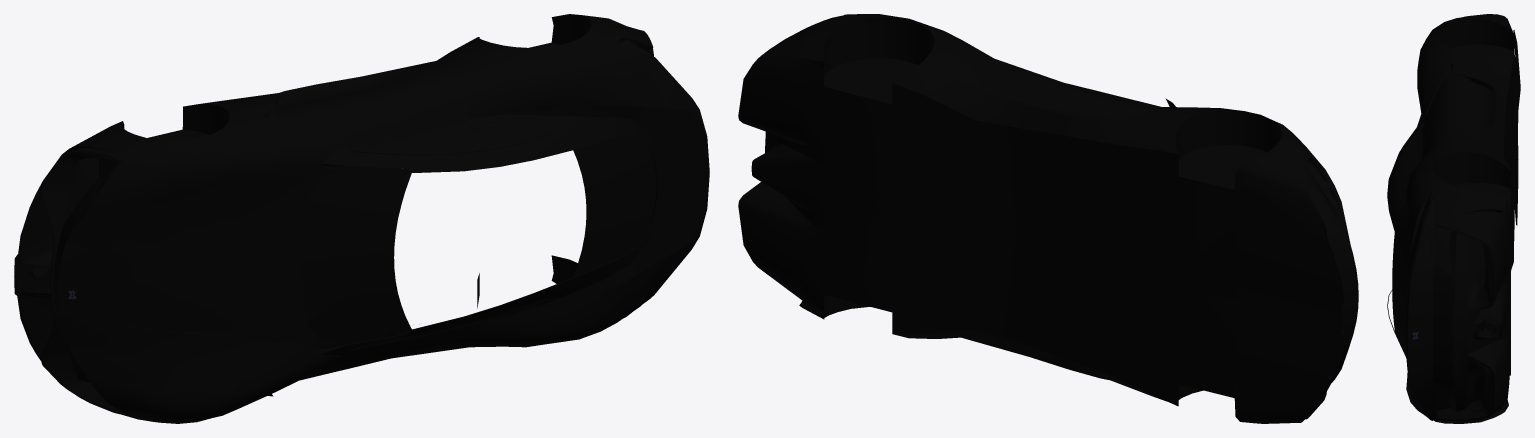
The model's file is carBody.glb.
3 renders of one model, left to right at view 1: azimuth 30°, elevation 25°; view 2: azimuth 150°, elevation 25°; view 3: azimuth 270°, elevation 25°, orthographic. The views are drawn at different scales.
Visible parts, largest first — view 1: carBody; view 2: carBody; view 3: carBody.
Boxes of the visible parts, box(x1,y1,x2,y2) form: carBody: box(14, 14, 709, 423); carBody: box(738, 14, 1358, 423); carBody: box(1387, 14, 1520, 423).
Size of what is drawn, in the model's own units: 7.27 by 3.27 by 1.68.
1 material, 1 textured.
